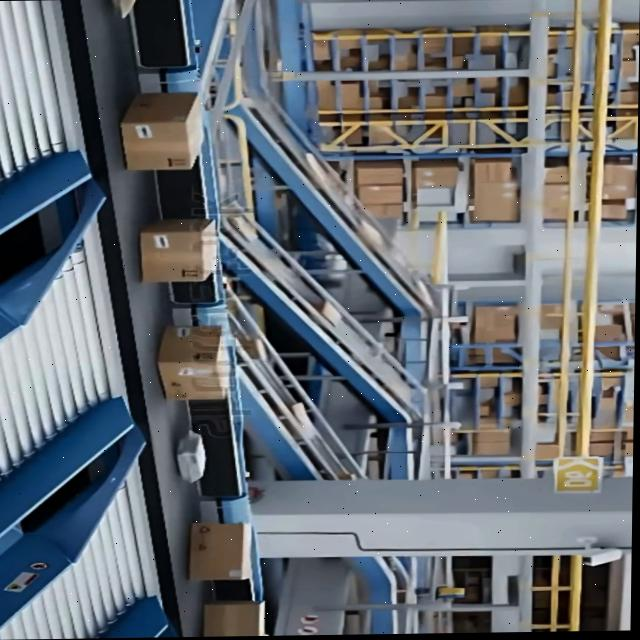product 1: (156, 324, 232, 401), (139, 218, 219, 283), (188, 521, 254, 569)
product 2: (175, 429, 208, 483)
